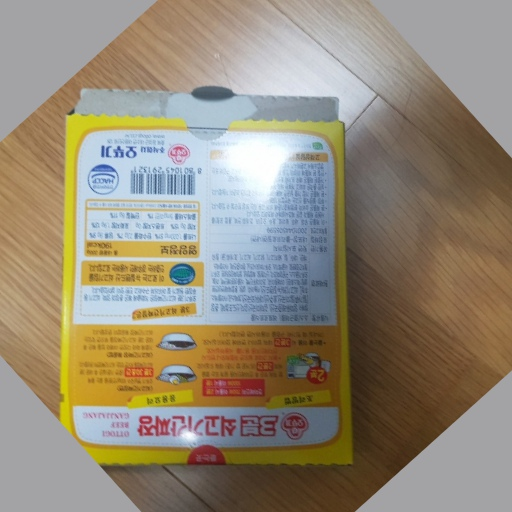Paper_0: (56, 83, 362, 471)
